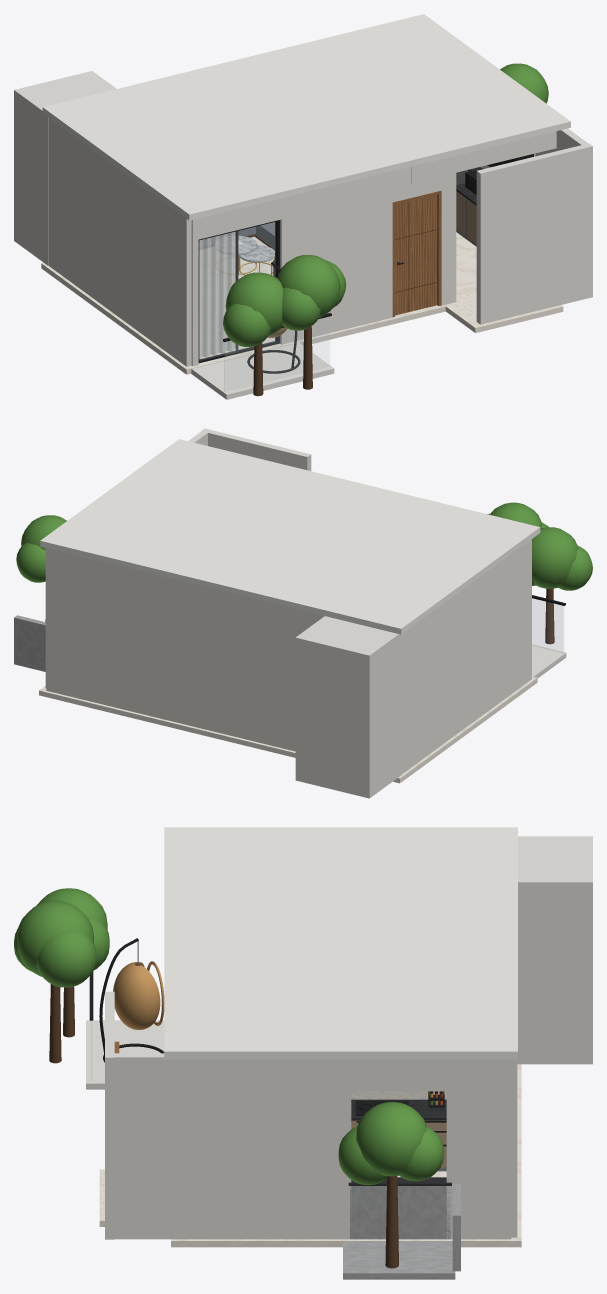
Rendered from room_model.glb.
3 renders of one model, top to bottom at view 1: azimuth 30°, elevation 25°; view 2: azimuth 150°, elevation 25°; view 3: azimuth 270°, elevation 25°, orthographic. The views are drawn at different scales.
Visible parts, largest first — view 1: Architecture, CeilingGroup, BalconyZone, BedroomDoorPivot, MainFloor, SheerCurtain, BalconySlider, Kitchen, LivingFurniture, LShapedSofa; view 2: Architecture, CeilingGroup, BalconyZone, MainFloor; view 3: Architecture, CeilingGroup, BalconyZone, MainFloor, Kitchen.
Part boxes in pixels (<box>): Architecture: <box>14,63,592,399</box>; CeilingGroup: <box>42,14,570,220</box>; BalconyZone: <box>223,255,346,396</box>; BedroomDoorPivot: <box>395,194,437,315</box>; MainFloor: <box>41,232,476,374</box>; SheerCurtain: <box>199,232,235,358</box>; BalconySlider: <box>235,221,276,351</box>; Kitchen: <box>456,153,535,246</box>; LivingFurniture: <box>238,235,274,275</box>; LShapedSofa: <box>238,222,274,250</box>; Architecture: <box>14,428,566,798</box>; CeilingGroup: <box>40,439,540,634</box>; BalconyZone: <box>487,502,592,652</box>; MainFloor: <box>39,676,537,783</box>; Architecture: <box>86,836,592,1279</box>; CeilingGroup: <box>164,827,517,1059</box>; BalconyZone: <box>14,888,164,1080</box>; MainFloor: <box>171,1064,521,1247</box>; Kitchen: <box>351,1091,446,1171</box>.
Bounding box in the file's own units: 9.36 × 3.18 × 8.51.
48 materials, 15 textured.
